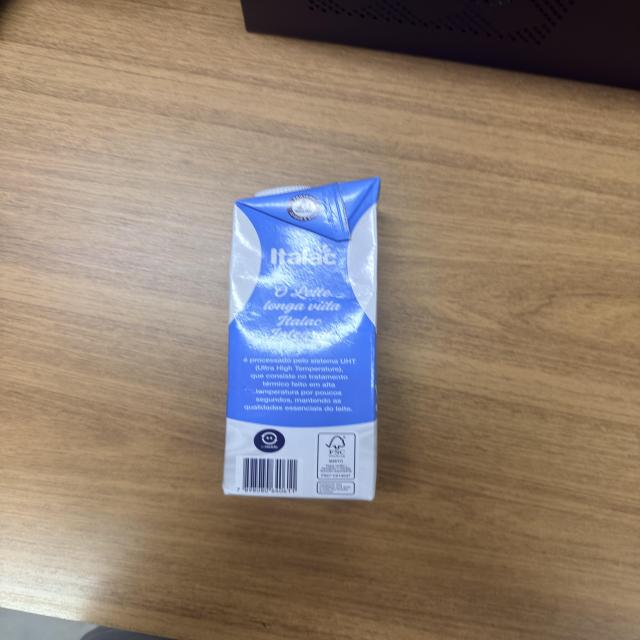Caixa de Leite: (224, 180, 385, 496)
